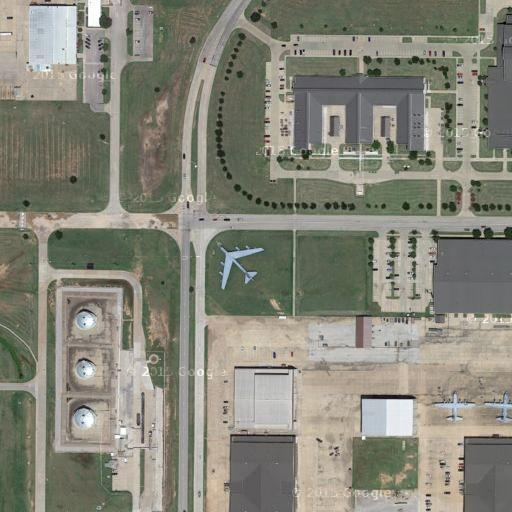B-52: (215, 240, 266, 295)
C-130: (432, 389, 480, 424), (478, 391, 512, 427)
